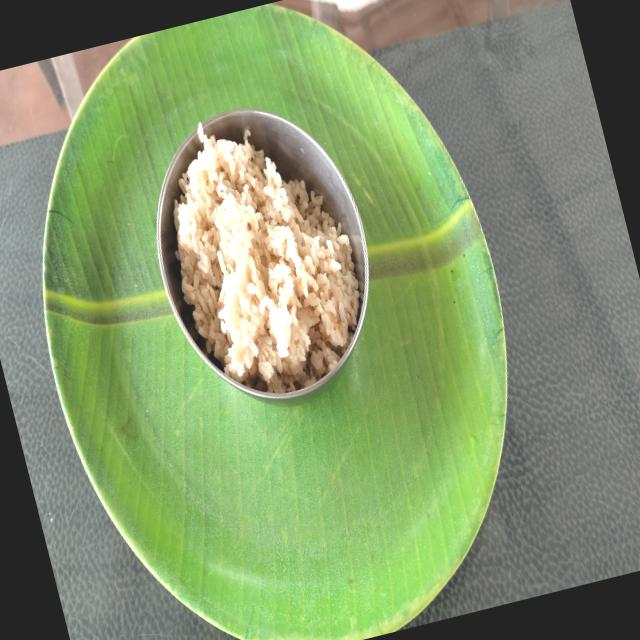brown-rice: (173, 135, 360, 393)
